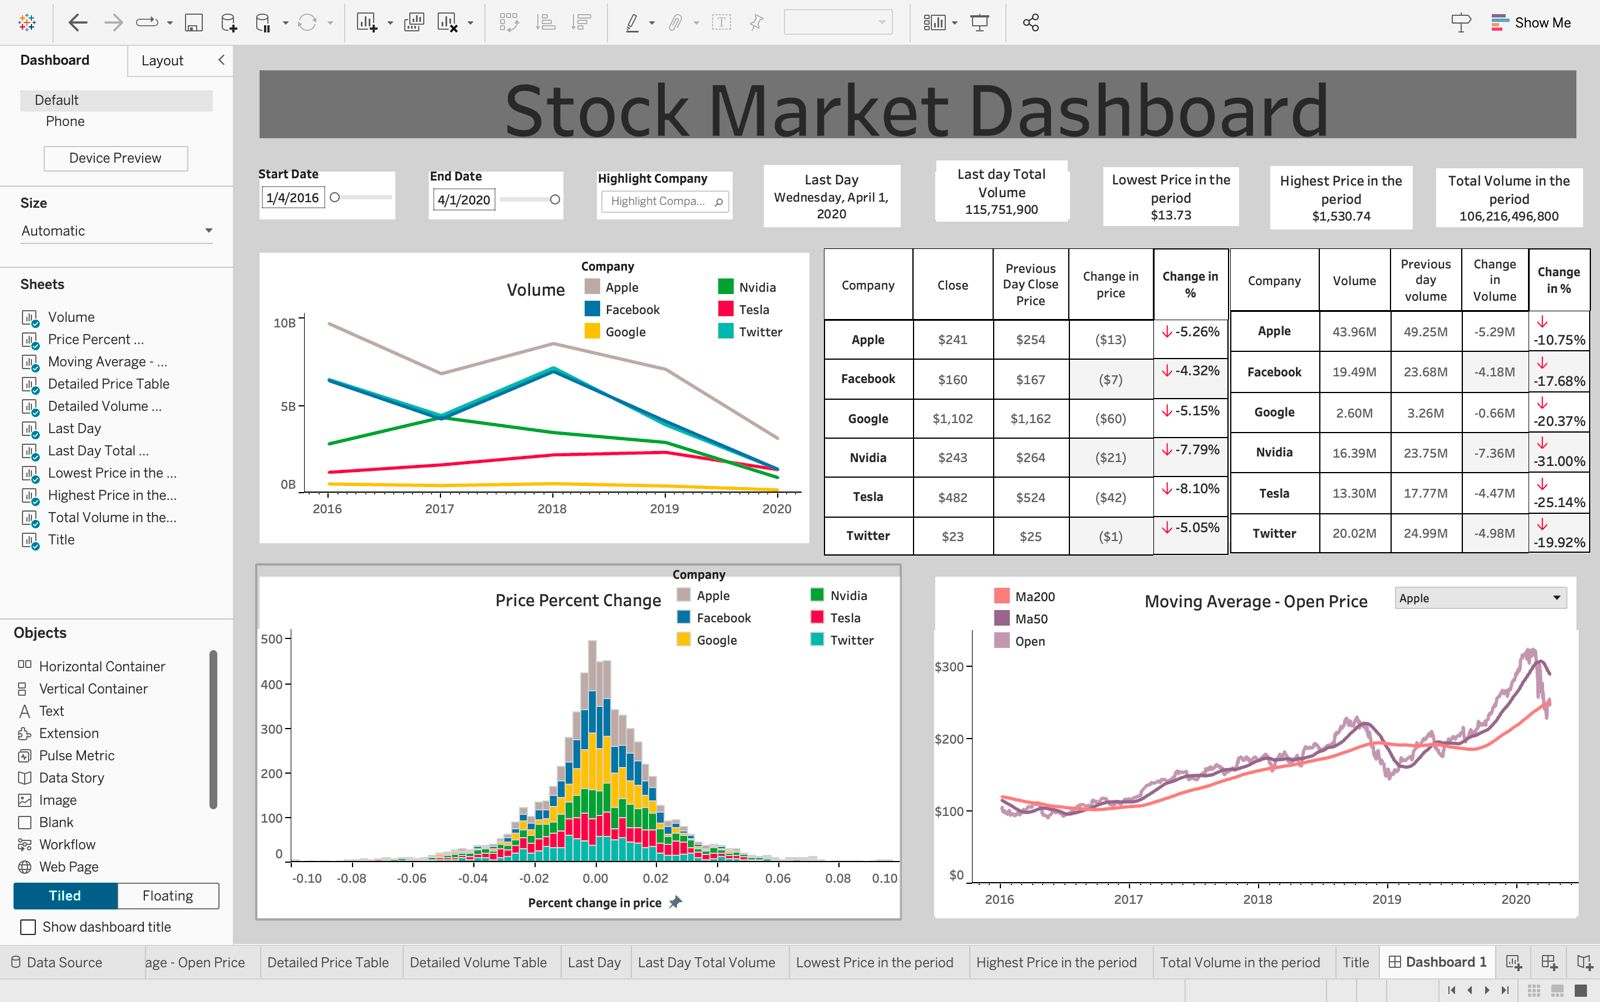

What the dashboard file says about the page in this screenshot:
{"tool":"tableau","page":{"name":"Dashboard 1","canvas":[1000,1000],"units":"permille","ordinal":0},"visuals":[{"type":"blank","box":[6.5,9.9,987,101.5]},{"type":"worksheet","title":"Title","mark":"Automatic","box":[19.5,29.7,960.1,54.5]},{"type":"blank","box":[6.5,111.4,123.3,101.5]},{"type":"blank","box":[129.8,111.4,123.4,101.5]},{"type":"blank","box":[253.2,111.4,123.4,101.5]},{"type":"blank","box":[376.6,111.4,123.4,101.5]},{"type":"blank","box":[500,111.4,123.3,101.5]},{"type":"blank","box":[623.3,111.4,123.4,101.5]},{"type":"blank","box":[746.7,111.4,123.4,101.5]},{"type":"blank","box":[870.1,111.4,123.4,101.5]},{"type":"worksheet","title":"Last Day Total Volume","mark":"Automatic","box":[513.4,128.7,96.2,68.1]},{"type":"parameter","param":"[Parameters].[Parameter 1]","box":[17.9,133.7,100.1,69.3]},{"type":"worksheet","title":"Last Day","mark":"Automatic","box":[387.3,133.7,100.1,69.3]},{"type":"worksheet","title":"Highest Price in the period","mark":"Automatic","box":[757.5,134.9,104.2,70.5]},{"type":"parameter","param":"[Parameters].[Parameter 2]","box":[143.2,136.1,97.6,69.3]},{"type":"worksheet","title":"Lowest Price in the period","mark":"Automatic","box":[635.5,136.1,99.3,65.6]},{"type":"worksheet","title":"Total Volume in the period","mark":"Automatic","box":[878.8,137.4,107.4,65.6]},{"type":"highlighter","title":"Volume","param":"[federated.1pgncip0n0zwew14cjfhq1sk6kyk].[none:Table Name:nk]","box":[266.1,138.6,98.5,64.4]},{"type":"blank","box":[6.5,212.9,426.4,360.2]},{"type":"blank","box":[432.9,212.9,560.6,360.2]},{"type":"worksheet","title":"Detailed Price Table","mark":"Automatic","rows":["Table Name","Close","Previous Day Close Price","Change in price"],"box":[431.2,226.5,296.2,342.8]},{"type":"worksheet","title":"Detailed Volume Table","mark":"Automatic","rows":["Table Name","Volume","Previous day volume","Change in Volume"],"box":[728.2,226.5,263.6,340.4]},{"type":"legend","title":"Volume","param":"[federated.1pgncip0n0zwew14cjfhq1sk6kyk].[none:Table Name:nk]","box":[253.9,236.4,176.1,113.9]},{"type":"worksheet","title":"Volume","mark":"Automatic","rows":["Volume"],"cols":["Date"],"box":[26.9,253.7,388.1,280.9]},{"type":"blank","box":[6.5,573,493.5,417.1]},{"type":"blank","box":[500,573,493.5,417.1]},{"type":"worksheet","title":"Price Percent Change","mark":"Automatic","rows":["Percent change in price"],"cols":["Percent change in price (bin)"],"box":[17.1,579.2,469.5,392.3]},{"type":"legend","title":"Price Percent Change","param":"[federated.1pgncip0n0zwew14cjfhq1sk6kyk].[none:Table Name:nk]","box":[320.6,579.2,168.4,127.5]},{"type":"worksheet","title":"Moving Average - Open Price","mark":"Automatic","cols":["Date"],"box":[511.8,580.5,471.1,388.6]},{"type":"filter","title":"Moving Average - Open Price","param":"[federated.1pgncip0n0zwew14cjfhq1sk6kyk].[none:Table Name:nk]","box":[845.8,599,130.8,52]},{"type":"legend","title":"Moving Average - Open Price","param":"[federated.1pgncip0n0zwew14cjfhq1sk6kyk].[:Measure Names]","box":[553.3,600.2,96.8,84.2]}]}

Visuals, with their boxes on the dashboard's canvas, which has no fixed pixel size, in thousandths of its width and height (x1, y1, x2, y2). These are canvas units, not pixel positions in the 1600x1002 screenshot, which may show the page scaled, cropped or inside an application window:
blank: {"left": 6, "top": 10, "right": 994, "bottom": 111}
"Title" worksheet: {"left": 20, "top": 30, "right": 980, "bottom": 84}
blank: {"left": 6, "top": 111, "right": 130, "bottom": 213}
blank: {"left": 130, "top": 111, "right": 253, "bottom": 213}
blank: {"left": 253, "top": 111, "right": 377, "bottom": 213}
blank: {"left": 377, "top": 111, "right": 500, "bottom": 213}
blank: {"left": 500, "top": 111, "right": 623, "bottom": 213}
blank: {"left": 623, "top": 111, "right": 747, "bottom": 213}
blank: {"left": 747, "top": 111, "right": 870, "bottom": 213}
blank: {"left": 870, "top": 111, "right": 994, "bottom": 213}
"Last Day Total Volume" worksheet: {"left": 513, "top": 129, "right": 610, "bottom": 197}
parameter: {"left": 18, "top": 134, "right": 118, "bottom": 203}
"Last Day" worksheet: {"left": 387, "top": 134, "right": 487, "bottom": 203}
"Highest Price in the period" worksheet: {"left": 758, "top": 135, "right": 862, "bottom": 205}
parameter: {"left": 143, "top": 136, "right": 241, "bottom": 205}
"Lowest Price in the period" worksheet: {"left": 636, "top": 136, "right": 735, "bottom": 202}
"Total Volume in the period" worksheet: {"left": 879, "top": 137, "right": 986, "bottom": 203}
"Volume" highlighter: {"left": 266, "top": 139, "right": 365, "bottom": 203}
blank: {"left": 6, "top": 213, "right": 433, "bottom": 573}
blank: {"left": 433, "top": 213, "right": 994, "bottom": 573}
"Detailed Price Table" worksheet: {"left": 431, "top": 226, "right": 727, "bottom": 569}
"Detailed Volume Table" worksheet: {"left": 728, "top": 226, "right": 992, "bottom": 567}
"Volume" legend: {"left": 254, "top": 236, "right": 430, "bottom": 350}
"Volume" worksheet: {"left": 27, "top": 254, "right": 415, "bottom": 535}
blank: {"left": 6, "top": 573, "right": 500, "bottom": 990}
blank: {"left": 500, "top": 573, "right": 994, "bottom": 990}
"Price Percent Change" worksheet: {"left": 17, "top": 579, "right": 487, "bottom": 972}
"Price Percent Change" legend: {"left": 321, "top": 579, "right": 489, "bottom": 707}
"Moving Average - Open Price" worksheet: {"left": 512, "top": 580, "right": 983, "bottom": 969}
"Moving Average - Open Price" filter: {"left": 846, "top": 599, "right": 977, "bottom": 651}
"Moving Average - Open Price" legend: {"left": 553, "top": 600, "right": 650, "bottom": 684}
